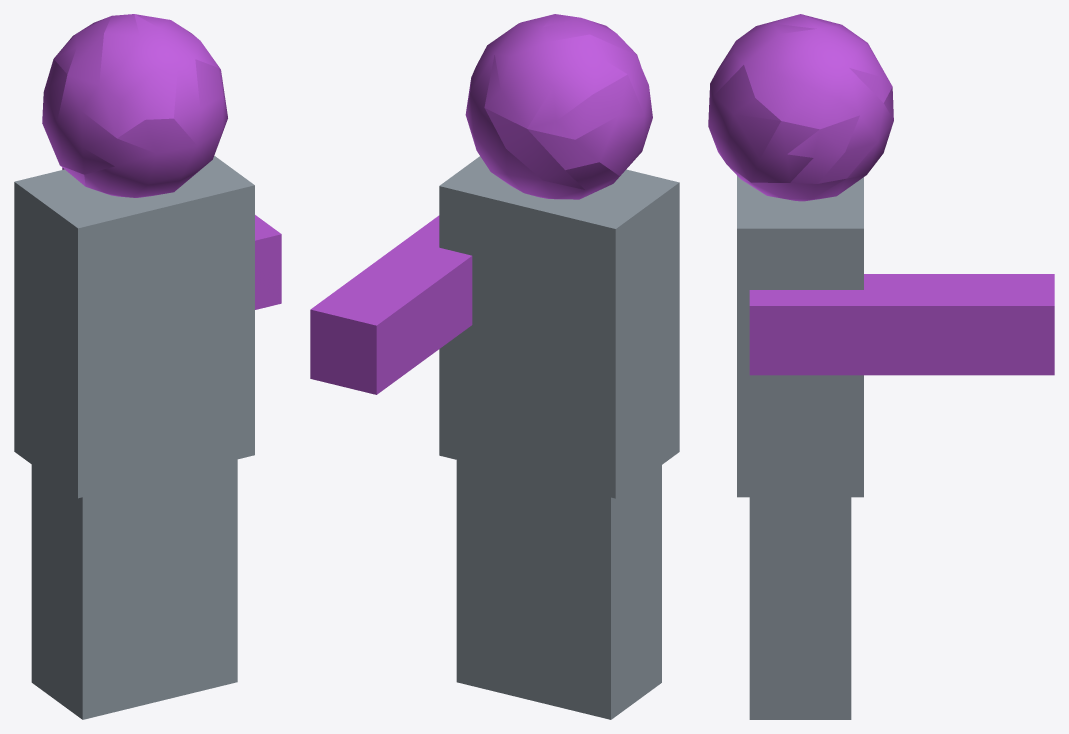
File: CH_CausalityEngineer_LOD2.glb
The picture shows the model from 3 angles, left to right: view 1: azimuth 30°, elevation 25°; view 2: azimuth 150°, elevation 25°; view 3: azimuth 270°, elevation 25°; orthographic projection.
Parts seen in each view (by area): view 1: Head; view 2: Head; view 3: Head.
Boxes of the visible parts, left/top/right/bottom form: Head: left=14, top=14, right=281, bottom=719; Head: left=310, top=14, right=679, bottom=719; Head: left=708, top=14, right=1054, bottom=719.
Bounding box in the file's own units: 57 × 171 × 81.81.
